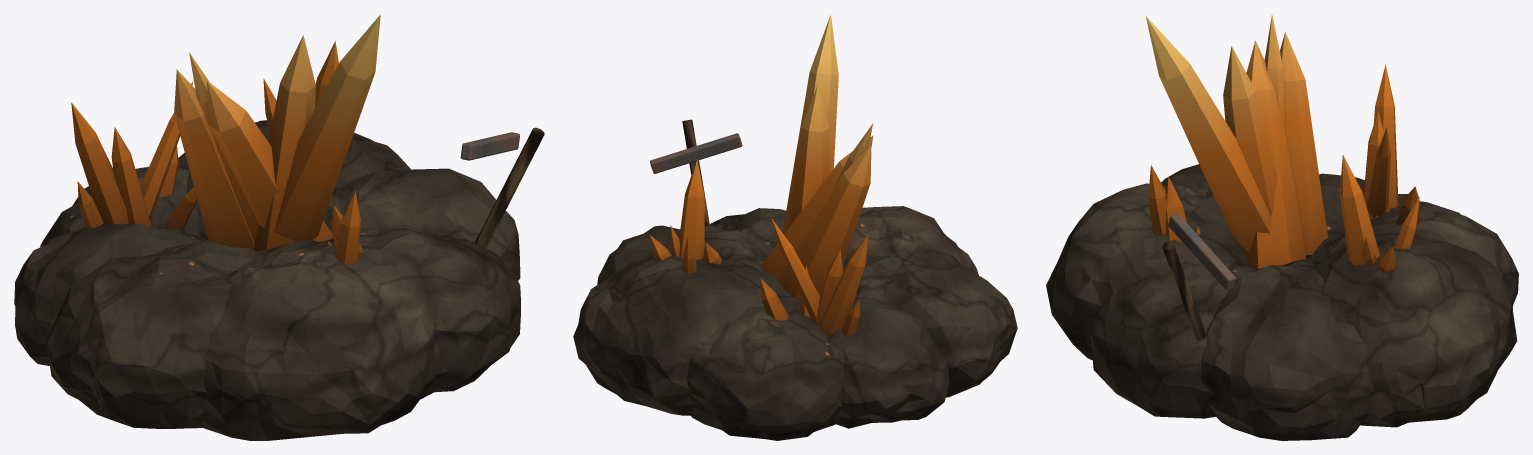
The model's file is poi_ore_vein.glb.
3 views of the same model, side by side, from view 1: azimuth 30°, elevation 25°; view 2: azimuth 150°, elevation 25°; view 3: azimuth 270°, elevation 25° (orthographic). The views are drawn at different scales.
Parts seen in each view (by area): view 1: poi_ore_vein; view 2: poi_ore_vein; view 3: poi_ore_vein.
Part boxes in pixels (box(x1,y1,x2,y2)): poi_ore_vein: box(14, 14, 544, 440); poi_ore_vein: box(573, 14, 1017, 440); poi_ore_vein: box(1046, 14, 1518, 440).
Bounding box in the file's own units: 1.65 × 1.25 × 1.56.
Materials: 4 (4 with a texture image).
